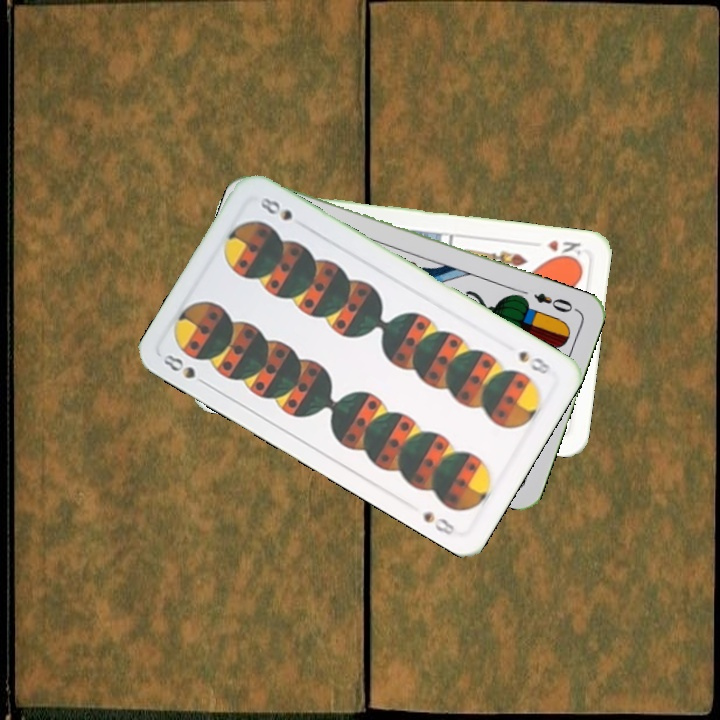EO: (529, 288, 580, 315)
HK: (543, 236, 586, 263)
S8: (159, 350, 212, 389), (514, 346, 554, 377)
